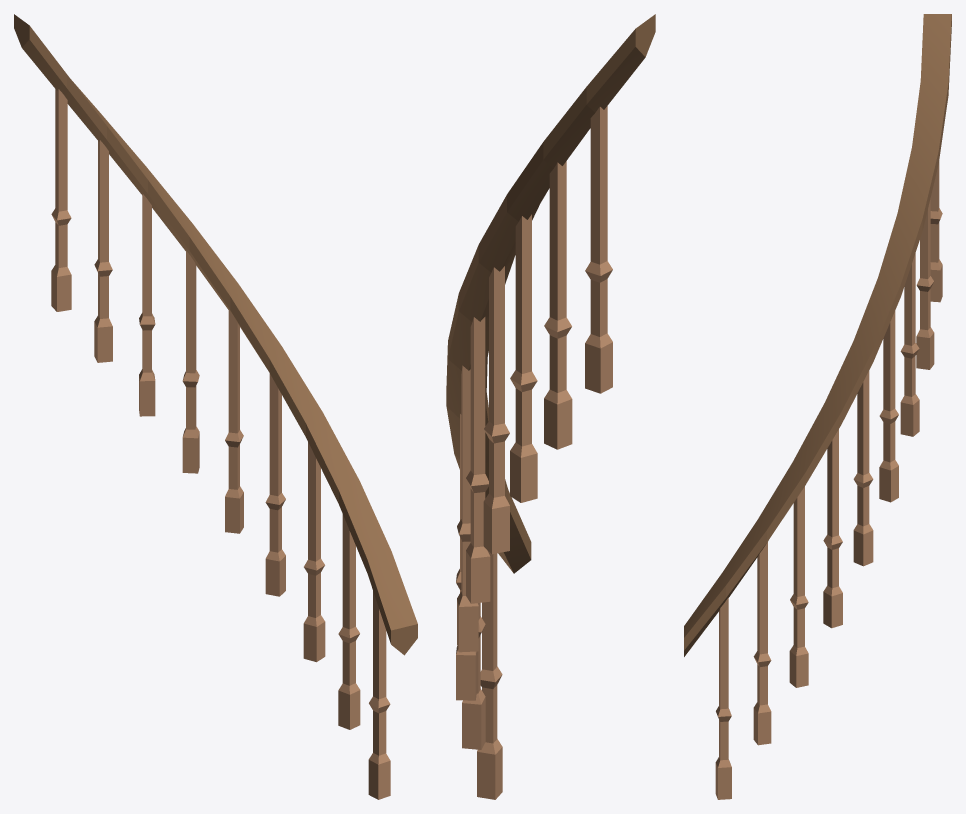
File: Stairs_Curved_Large_Handrail_Inner.obj
The picture shows the model from 3 angles, left to right: view 1: azimuth 30°, elevation 25°; view 2: azimuth 150°, elevation 25°; view 3: azimuth 270°, elevation 25°; orthographic projection. The views are drawn at different scales.
Parts seen in each view (by area): view 1: object9, object5, object8, object7, object6, object10, object4, object1, object2, object3; view 2: object9, object1, object8, object3, object2, object4, object10, object6, object5, object7; view 3: object9, object4, object7, object6, object2, object5, object3, object10, object1, object8.
Part boxes in pixels (x1,y1,x2,y2): object9: (14,14,417,655); object5: (338,514,360,729); object8: (51,89,71,311); object7: (303,442,325,662); object6: (265,373,285,596); object10: (368,591,390,799); object4: (225,310,243,533); object1: (94,140,112,362); object2: (182,250,199,473); object3: (139,194,155,416); object9: (446,14,655,573); object1: (544,161,572,449); object8: (585,106,612,393); object3: (510,214,537,502); object2: (483,266,509,554); object4: (466,317,490,603); object10: (477,550,502,799); object6: (457,365,478,652); object5: (462,603,485,749); object7: (456,414,476,700); object9: (684,14,951,656); object4: (853,371,873,566); object7: (789,486,808,687); object6: (823,429,842,628); object2: (879,311,898,502); object5: (753,542,771,745); object3: (900,253,919,436); object10: (715,597,731,799); object1: (916,198,934,369); object8: (930,161,942,302).
Size of the model in its own units: 0.95 by 2.65 by 0.95.
